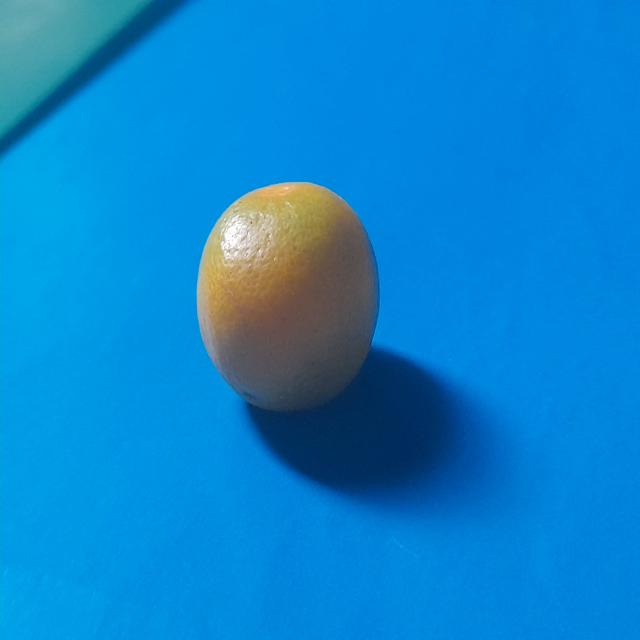greening: (194, 174, 383, 416)
